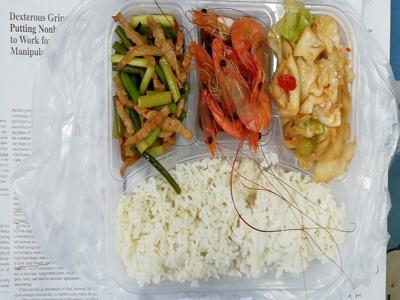rice: (125, 165, 334, 281)
st: (113, 7, 192, 163)
